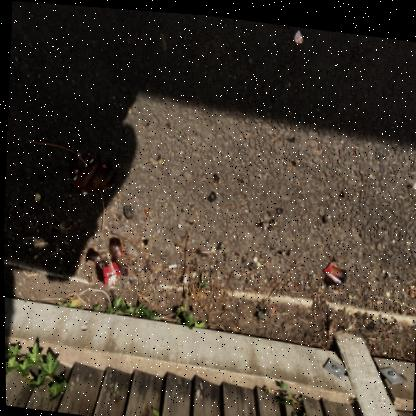Glass: (68, 150, 117, 193), (84, 236, 125, 283), (320, 260, 345, 280), (254, 217, 271, 225), (69, 149, 78, 163), (68, 159, 76, 173), (205, 187, 214, 199), (350, 45, 358, 54), (212, 170, 218, 179), (274, 203, 281, 209), (140, 237, 147, 243), (338, 185, 343, 193), (285, 132, 293, 137), (362, 289, 368, 295), (236, 174, 242, 179), (267, 215, 273, 220), (284, 244, 288, 251), (143, 206, 147, 213), (320, 209, 323, 218), (289, 156, 294, 161), (163, 120, 168, 125), (405, 178, 411, 182), (276, 245, 279, 250), (232, 248, 237, 251), (266, 207, 269, 211)
Waste: (293, 25, 301, 38), (166, 261, 175, 265)
